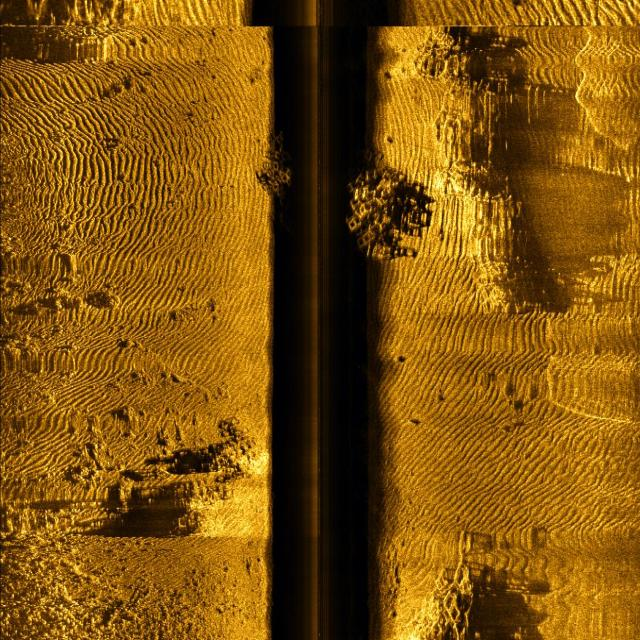artificial reef: (348, 151, 412, 276), (414, 518, 470, 640), (258, 124, 308, 229)
